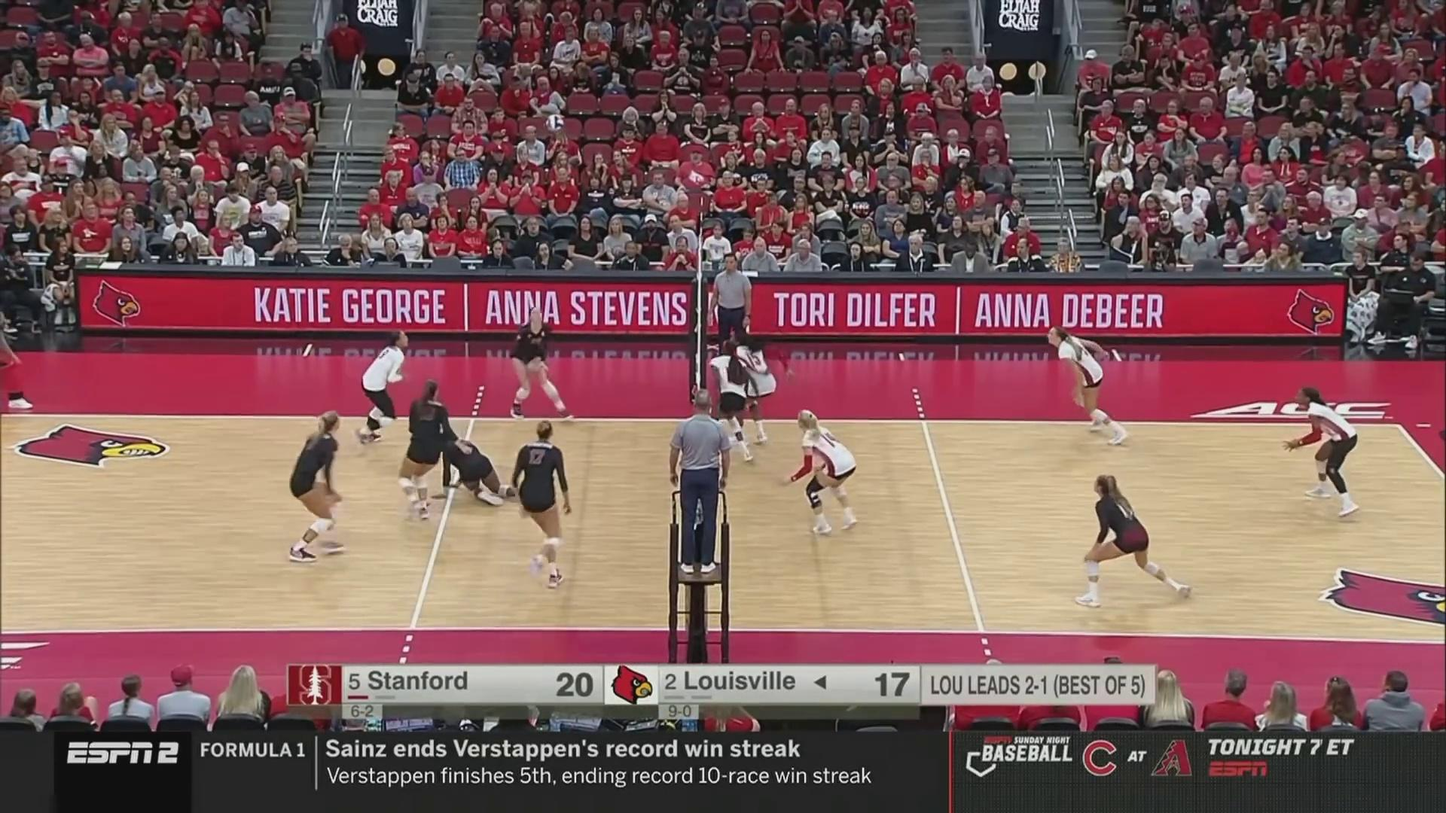player: (1078, 475, 1194, 605), (1045, 324, 1134, 447), (513, 423, 574, 585), (401, 381, 466, 524), (1286, 389, 1359, 515), (290, 413, 348, 564), (788, 413, 859, 534), (723, 330, 795, 445), (511, 308, 577, 419), (435, 430, 516, 504), (356, 331, 408, 443), (710, 339, 751, 463)
refree: (670, 395, 731, 571), (710, 256, 753, 375)
